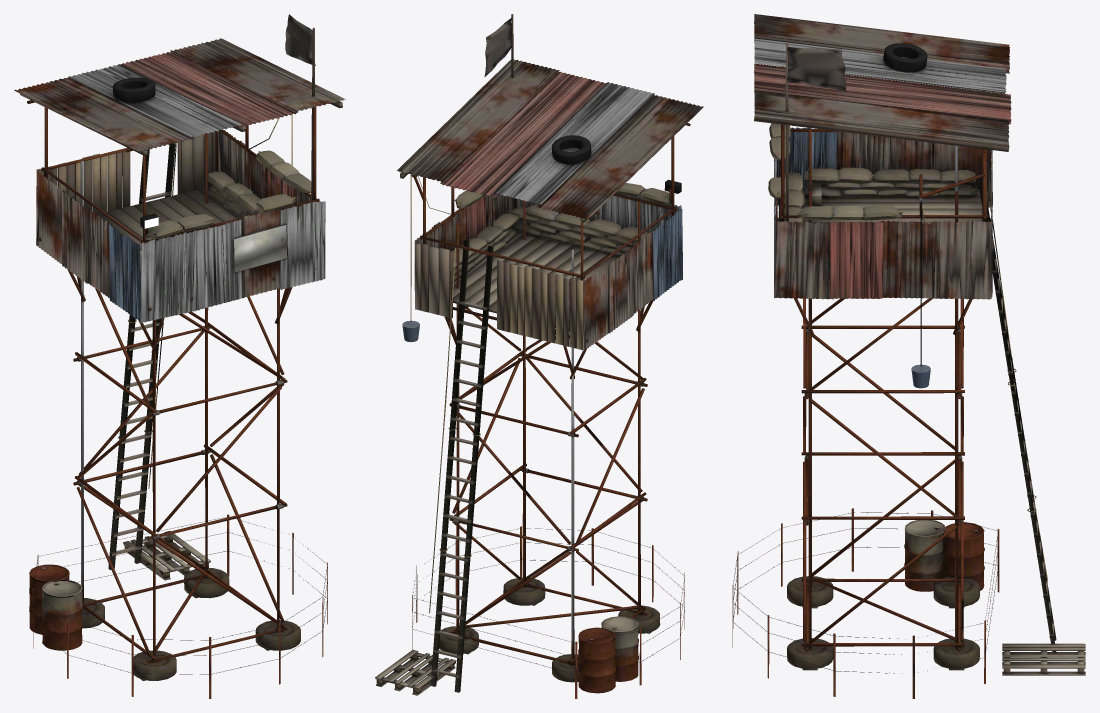
File: Watchtower.glb
3 renders of one model, left to right at view 1: azimuth 30°, elevation 25°; view 2: azimuth 150°, elevation 25°; view 3: azimuth 270°, elevation 25°, orthographic. The views are drawn at different scales.
Visible parts, largest first — view 1: body; view 2: body; view 3: body.
Part boxes in pixels (<box>): body: <box>14,14,345,698</box>; body: <box>375,14,703,698</box>; body: <box>732,14,1085,698</box>.
Bounding box in the file's own units: 4.51 × 10.05 × 5.07.
2 materials, 1 textured.
